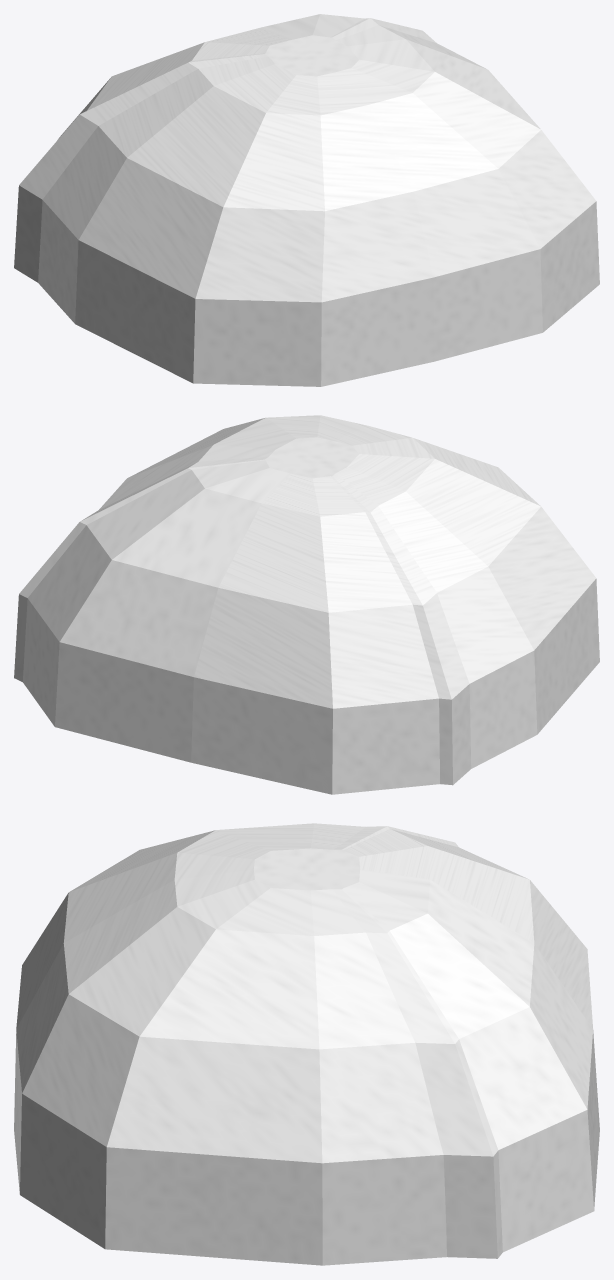
Rendered from head_fleece.glb.
3 views of the same model, one above another, from view 1: azimuth 30°, elevation 25°; view 2: azimuth 150°, elevation 25°; view 3: azimuth 270°, elevation 25° (orthographic). The views are drawn at different scales.
Visible parts, largest first — view 1: head_fleece_head_LOD0_RAID_fleece, head_fleece_head_LOD1_RAID_fleece; view 2: head_fleece_head_LOD0_RAID_fleece, head_fleece_head_LOD1_RAID_fleece; view 3: head_fleece_head_LOD0_RAID_fleece, head_fleece_head_LOD1_RAID_fleece.
Boxes of the visible parts, left/top/right/bottom form: head_fleece_head_LOD0_RAID_fleece: left=38, top=14, right=599, bottom=386; head_fleece_head_LOD1_RAID_fleece: left=14, top=18, right=436, bottom=282; head_fleece_head_LOD0_RAID_fleece: left=23, top=415, right=599, bottom=794; head_fleece_head_LOD1_RAID_fleece: left=14, top=439, right=471, bottom=785; head_fleece_head_LOD0_RAID_fleece: left=14, top=823, right=599, bottom=1265; head_fleece_head_LOD1_RAID_fleece: left=254, top=826, right=502, bottom=1258.
Bounding box in the file's own units: 0.284 × 0.127 × 0.259.
Materials: 2 (2 with a texture image).
